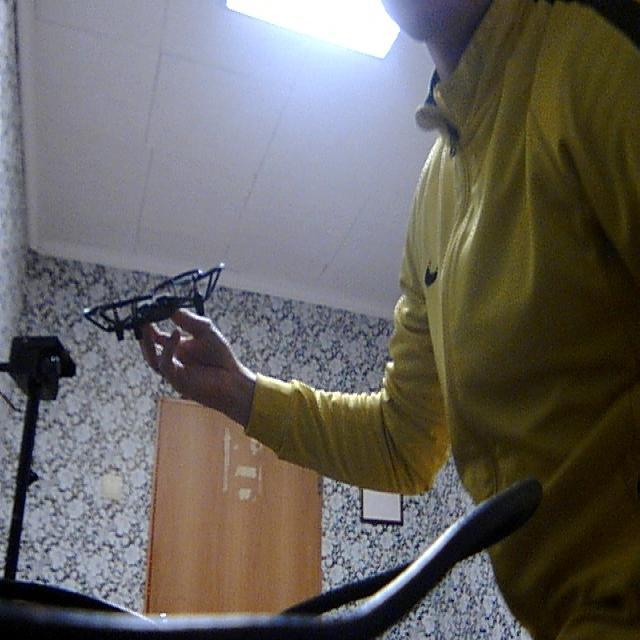drone: (74, 257, 246, 338)
